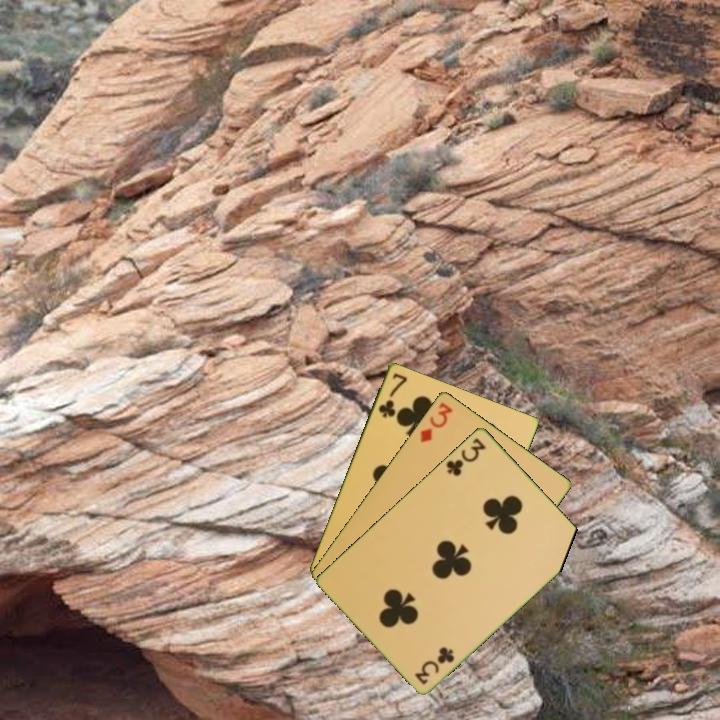3c: (442, 434, 489, 479), (411, 643, 457, 687)
3d: (416, 398, 455, 446)
7c: (375, 369, 410, 420)
